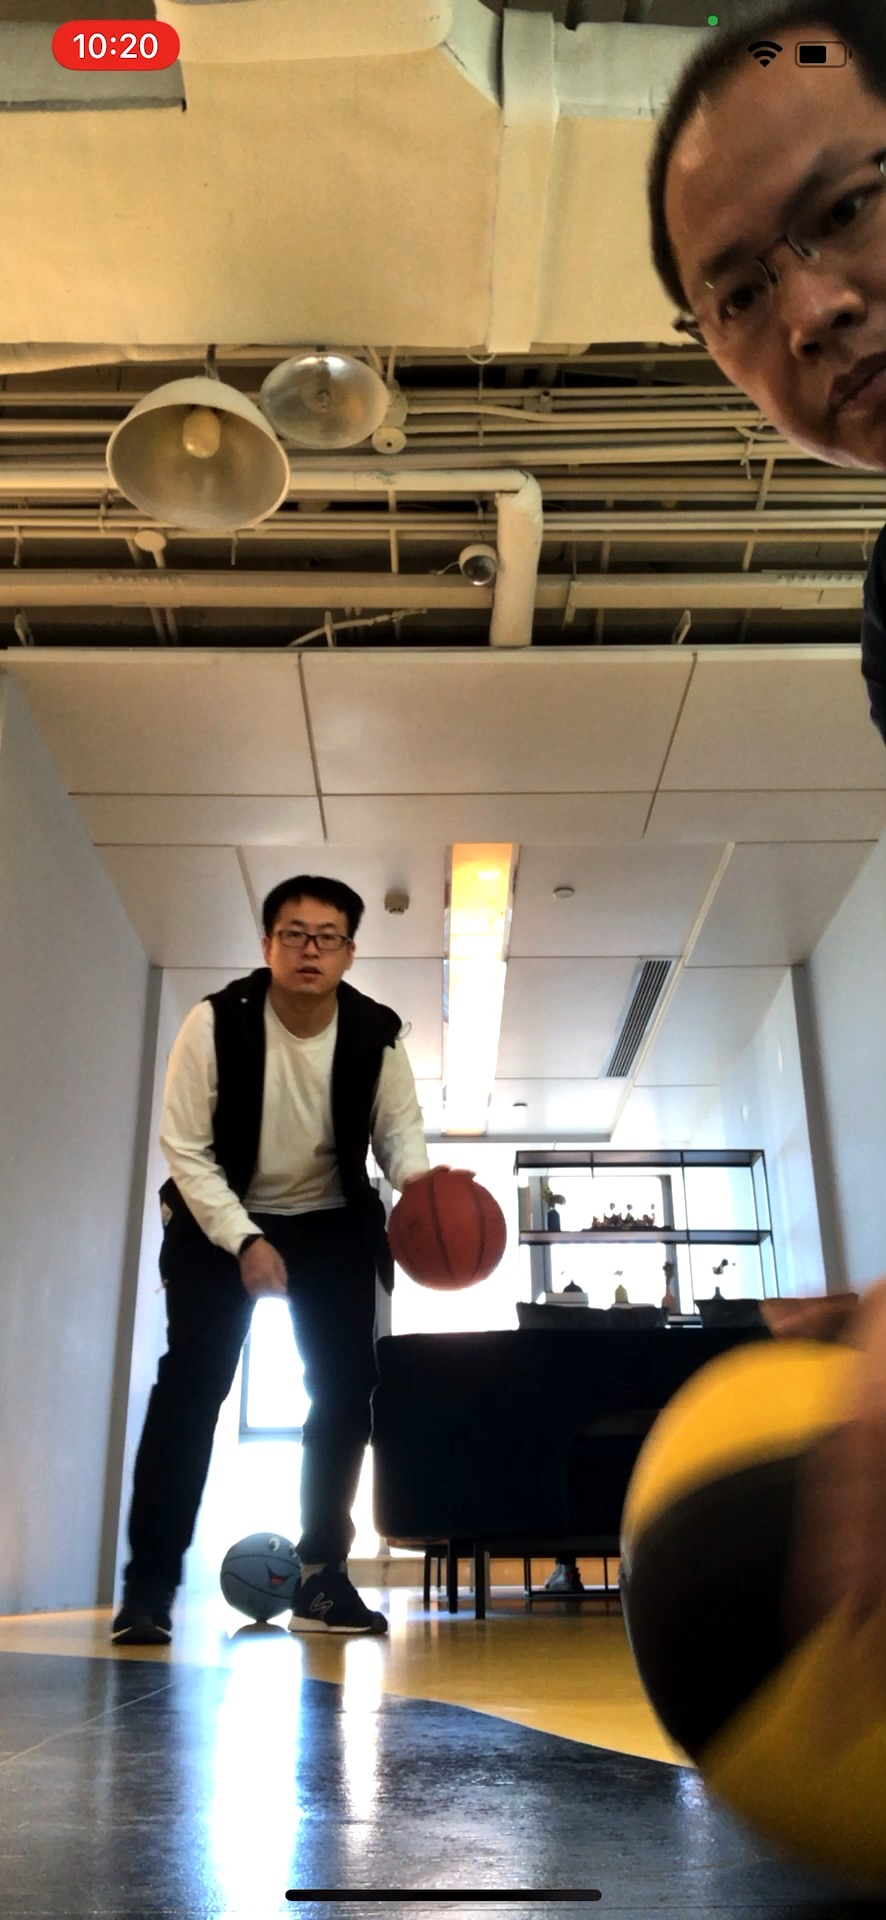ball: (616, 1340, 884, 1876), (392, 1176, 508, 1296), (221, 1531, 303, 1622)
